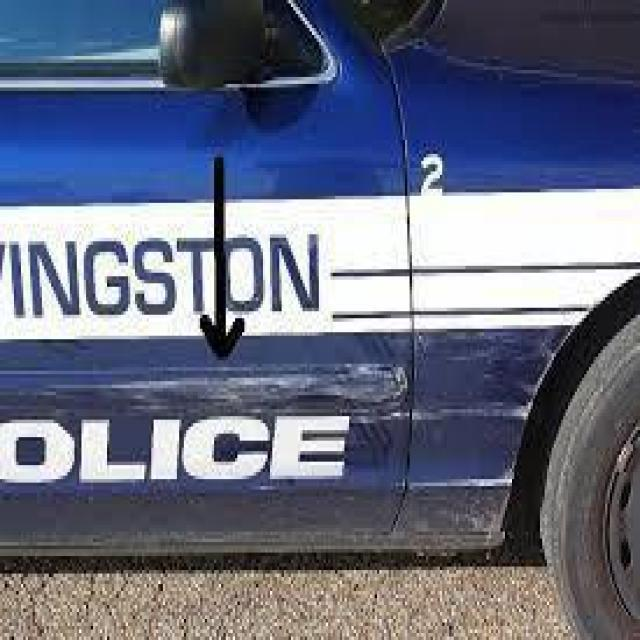damaged: (414, 328, 532, 550), (2, 364, 412, 424)
